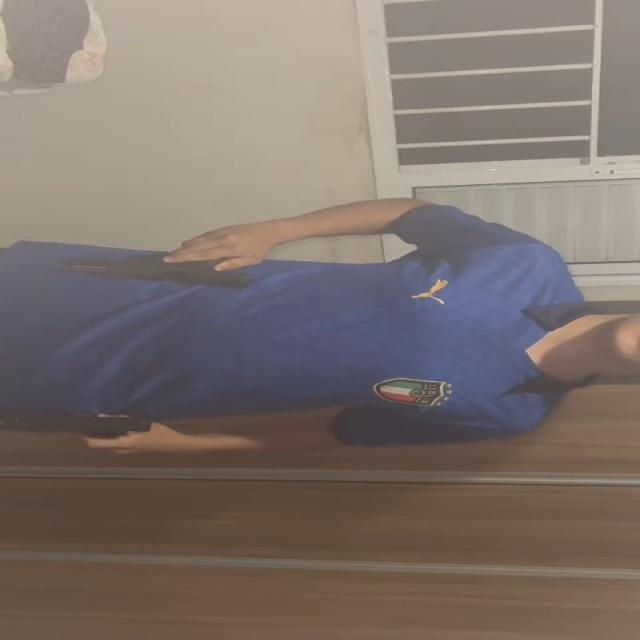gun: (56, 253, 254, 290)
